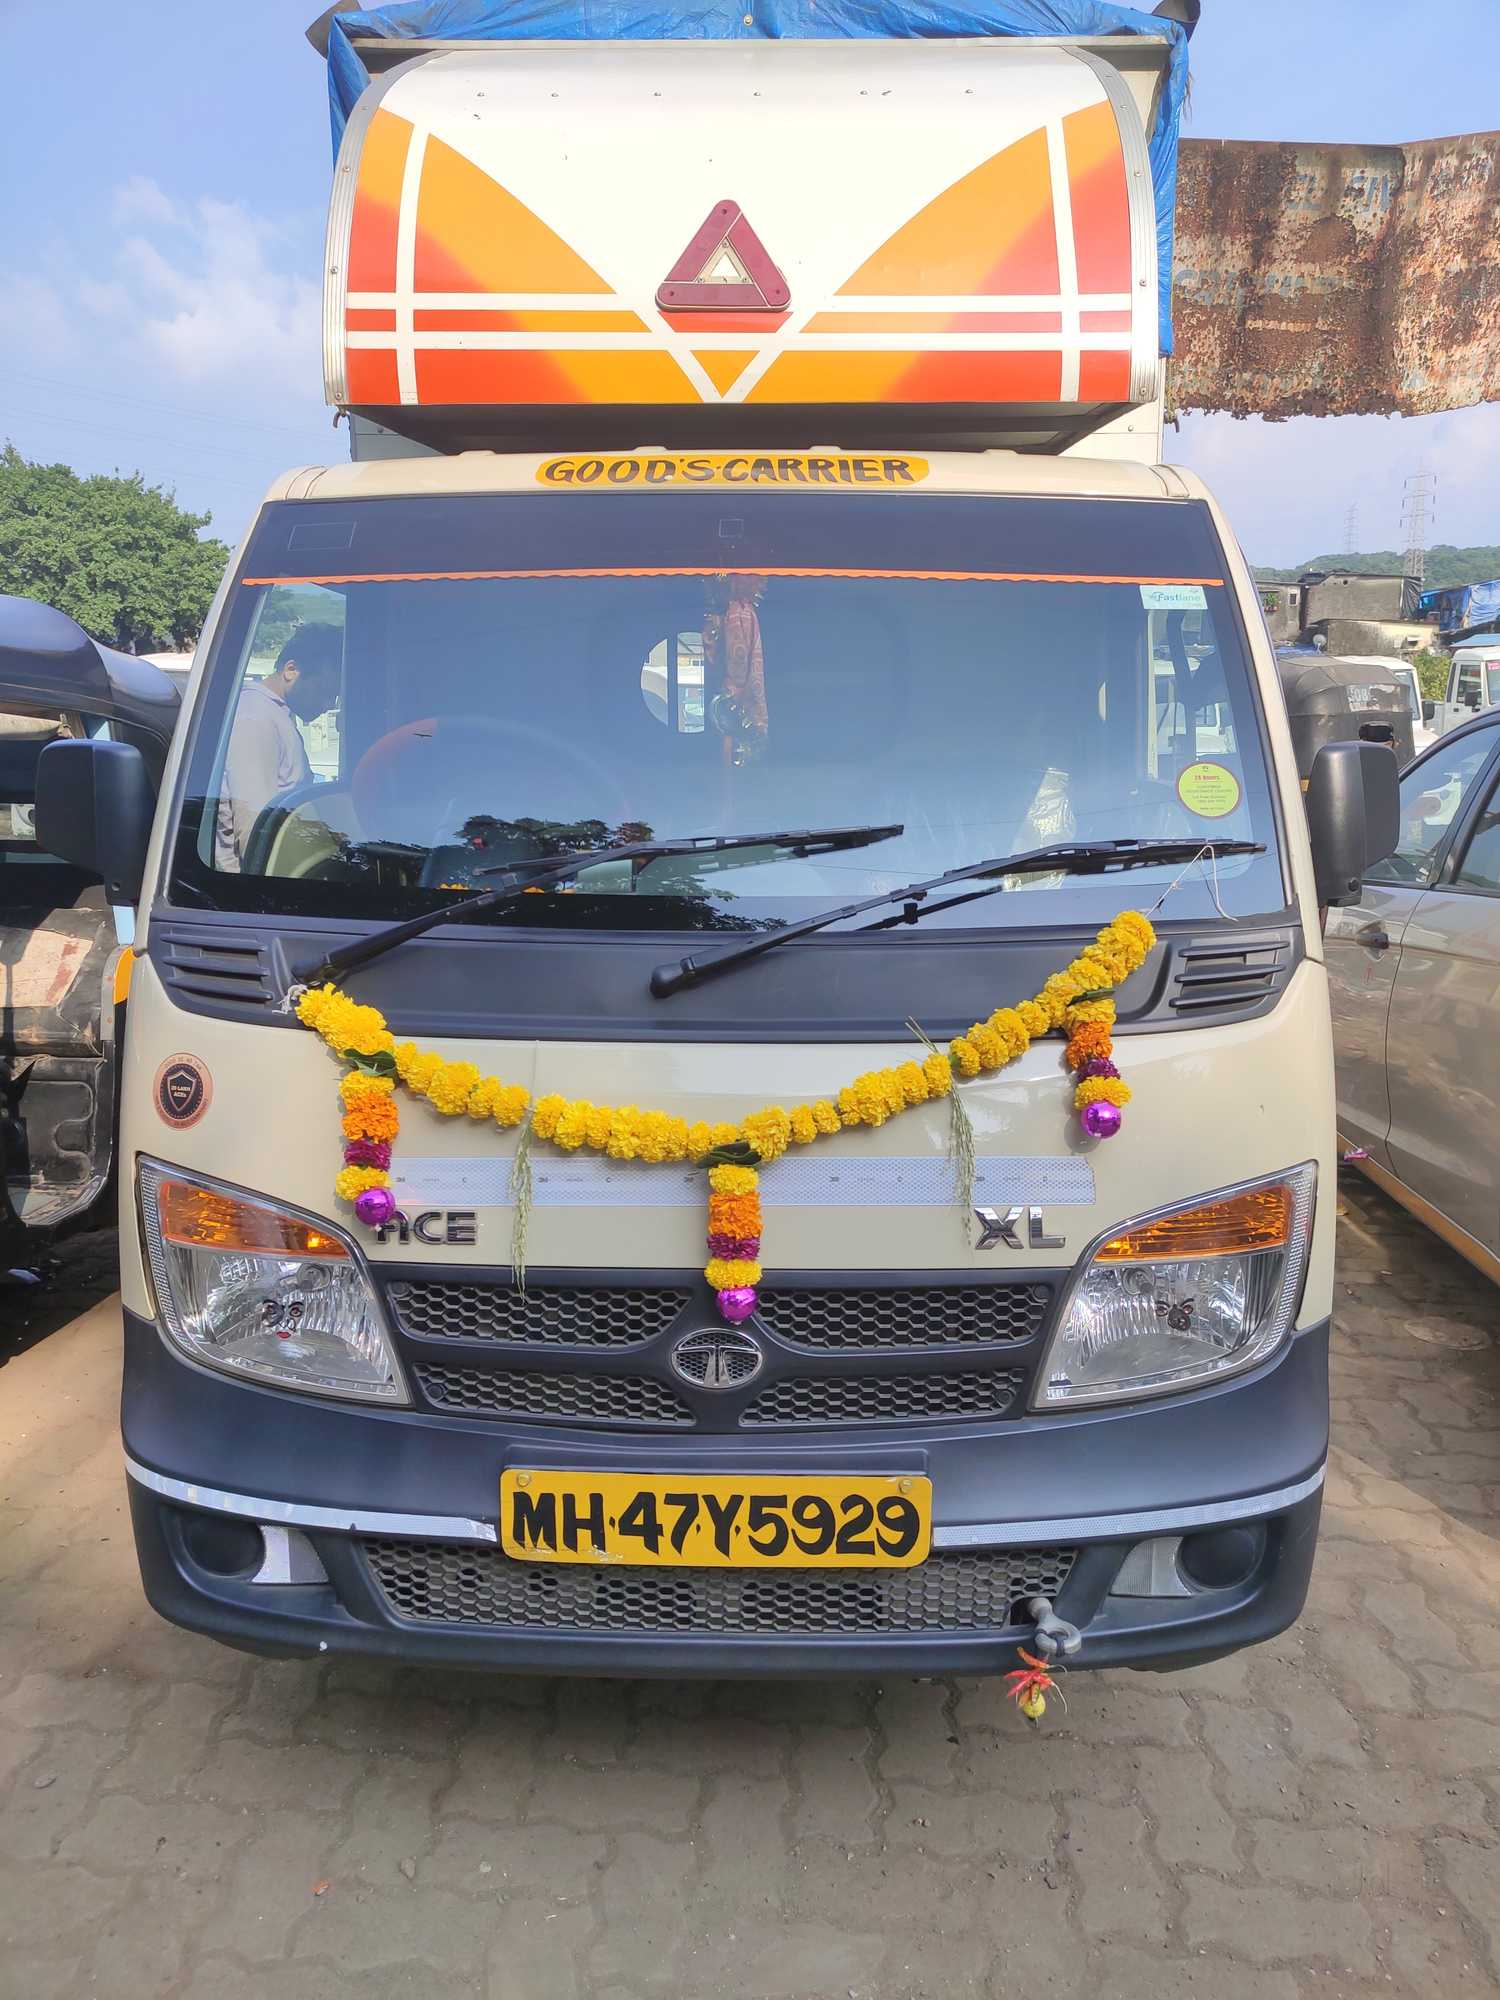numberplate: (498, 1460, 938, 1566)
